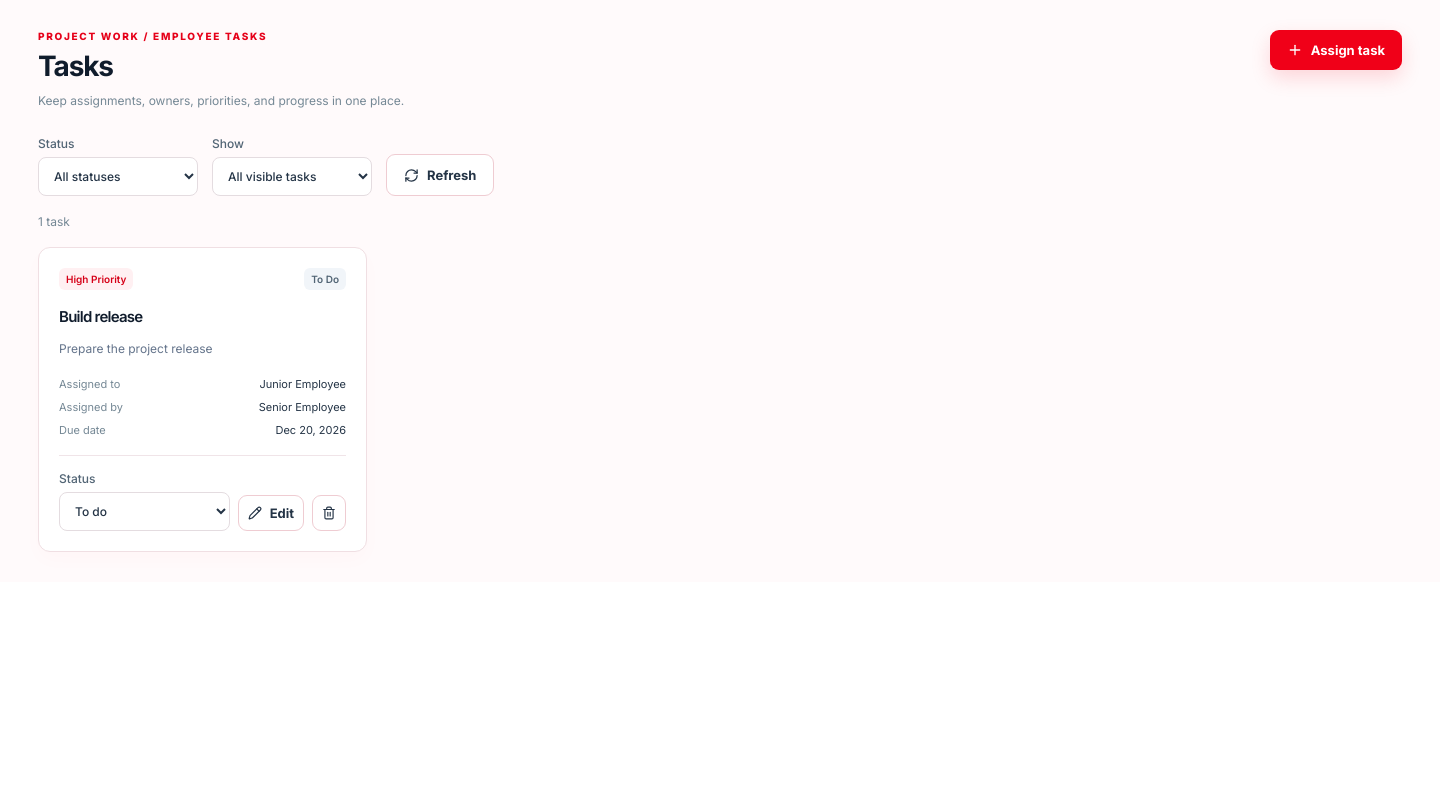
Test: Employee tasks › retains the assignment form and shows server errors on failed save
Click the button "Assign task".
click(1336, 50)  # box [1270,30,1402,70]
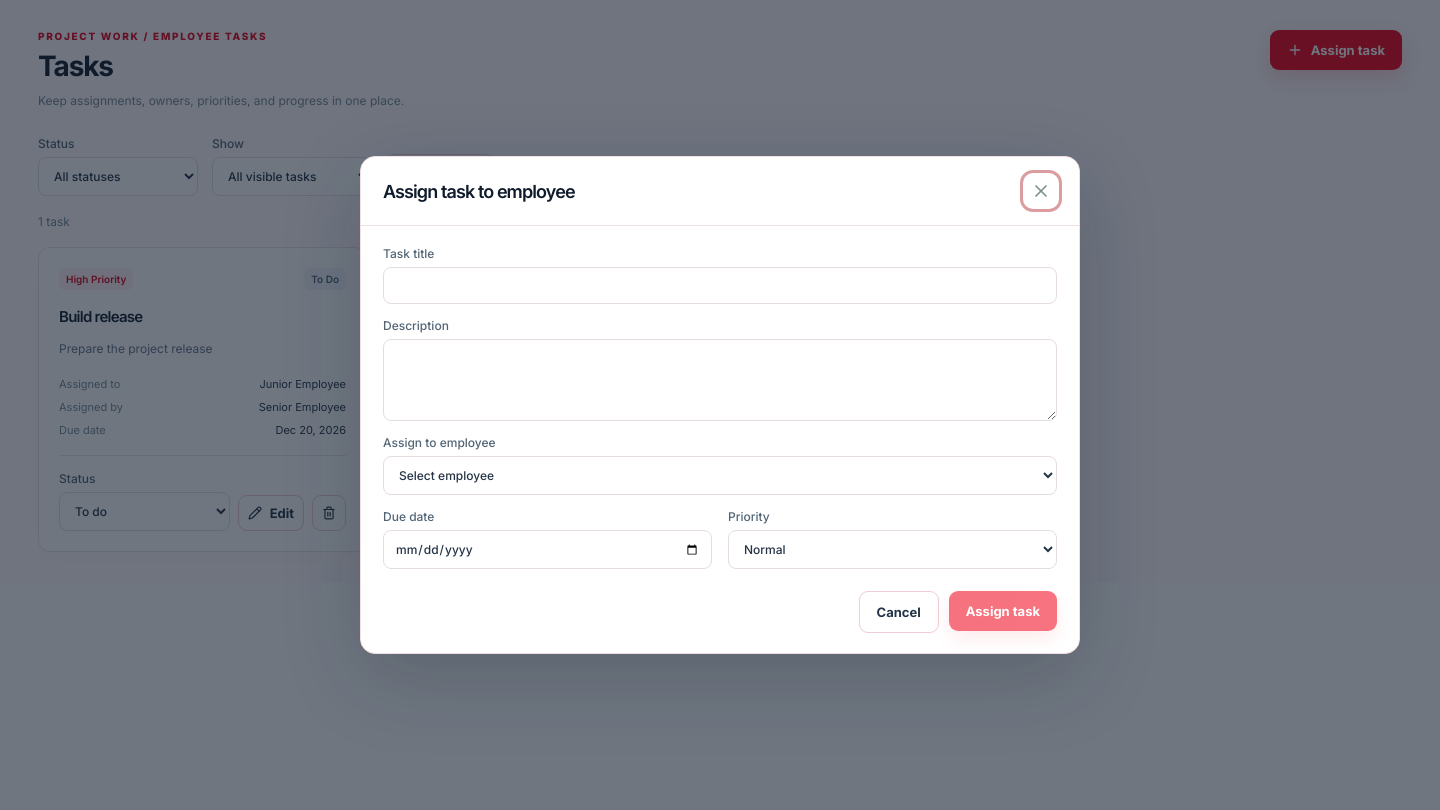
Type "Review" into the field labelled "Task title".
click(720, 286); type("Review")  # box [383,267,1057,304]
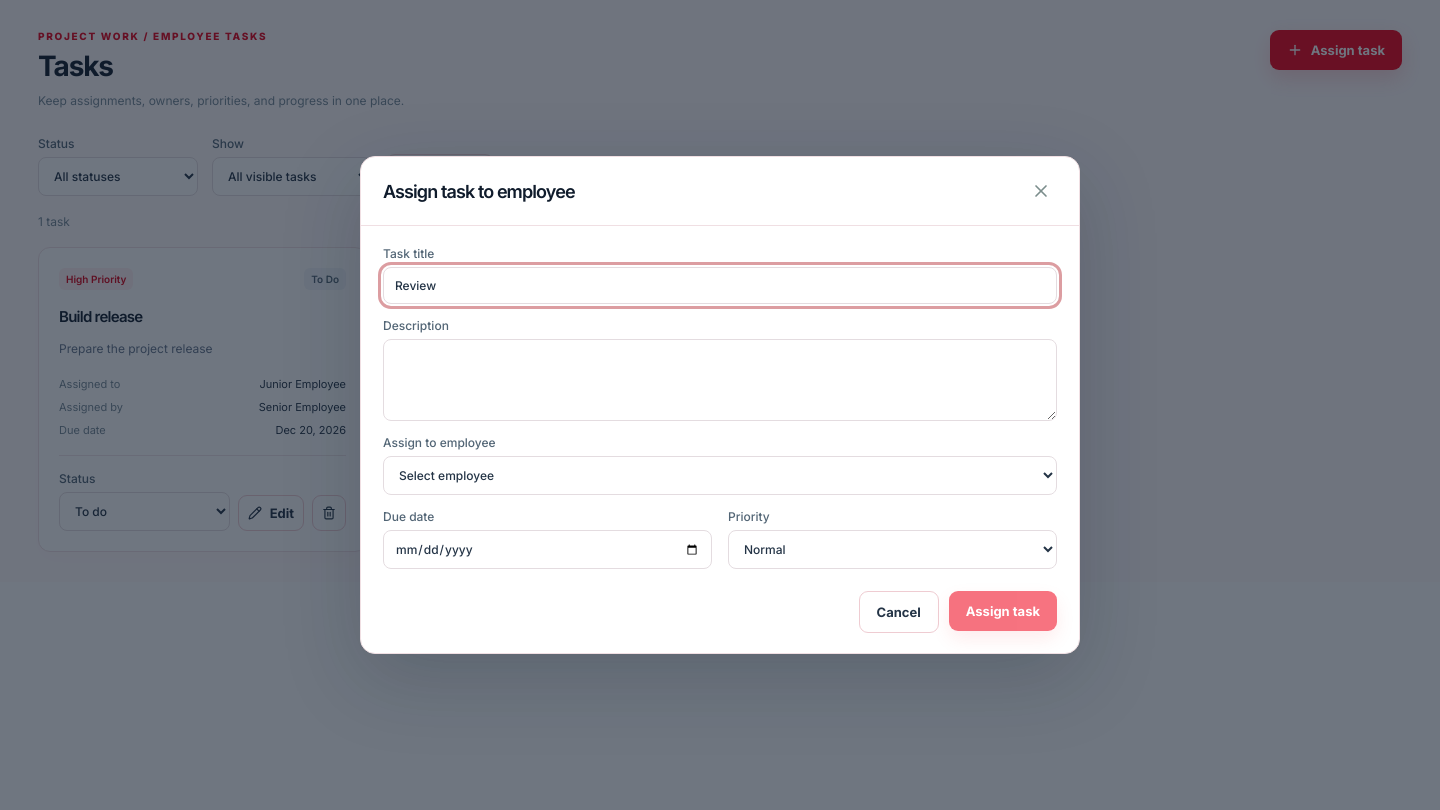
Select "Junior Employee — Developer" in the dropdown labelled "Assign to employee" at (720, 476), box [383,456,1057,495]
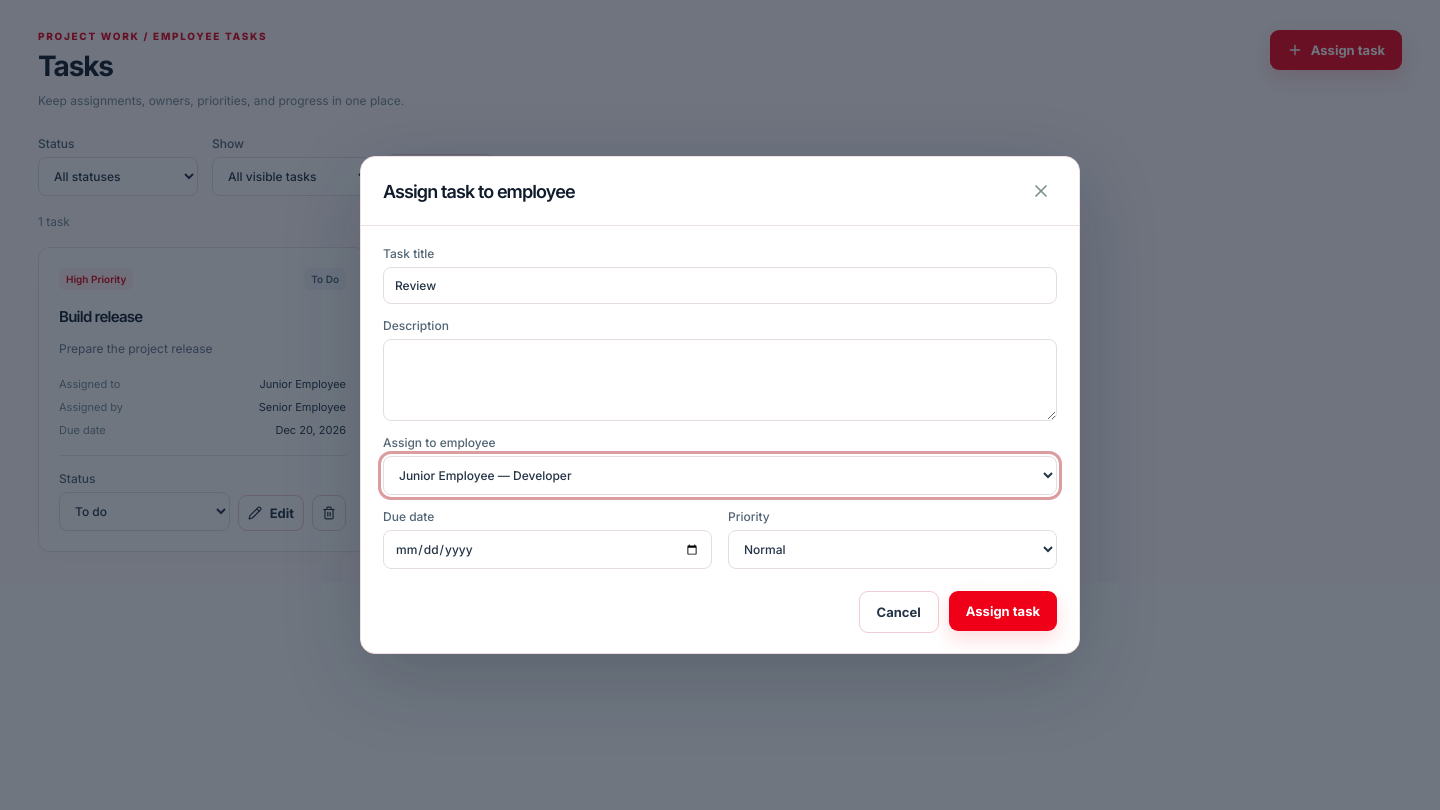
Click the button "Assign task".
click(1003, 611)  # box [949,591,1057,631]
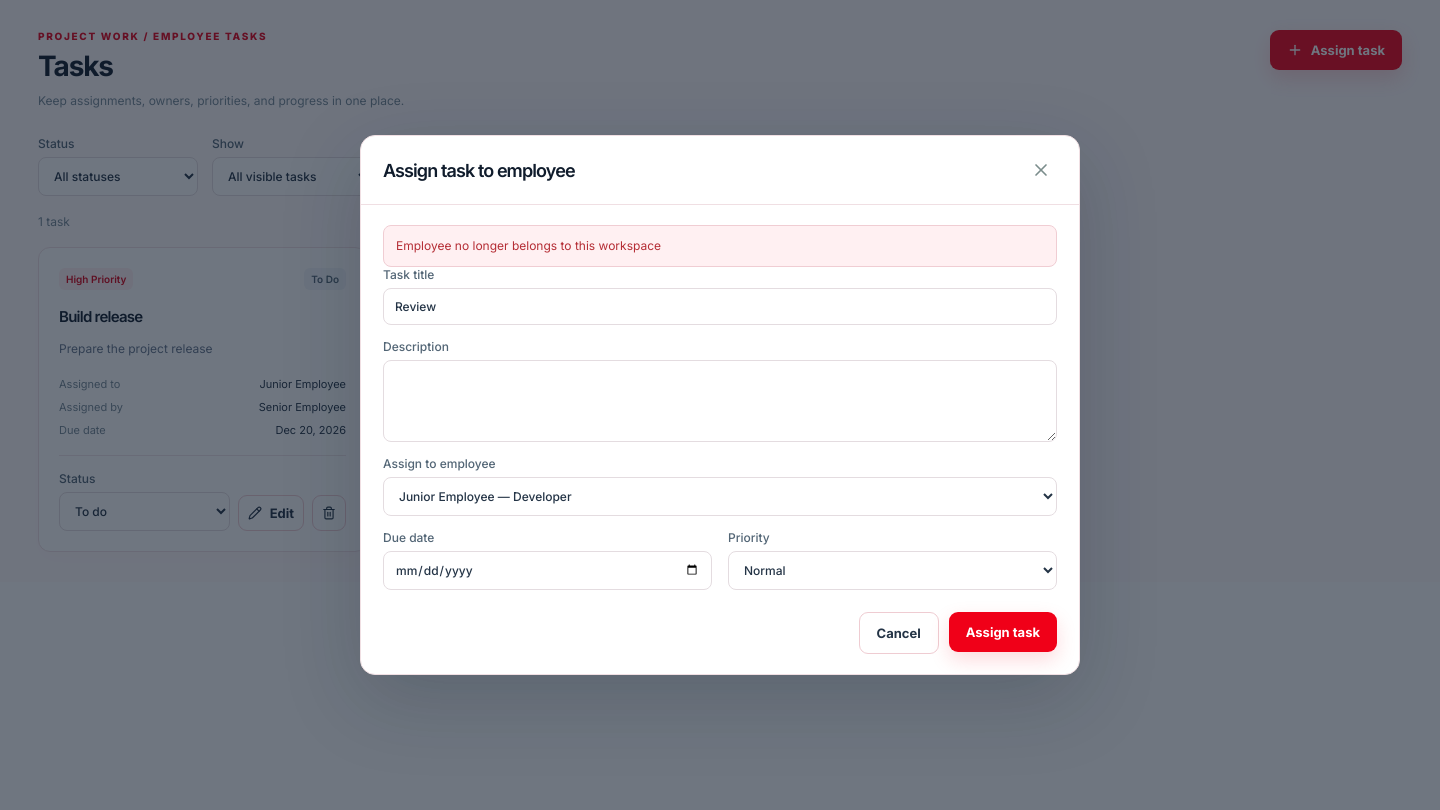
Check: the dialog is shown, box [360,135,1080,675]
Check: the message "Employee no longer belongs to this workspace" is shown, box [383,225,1057,267]
